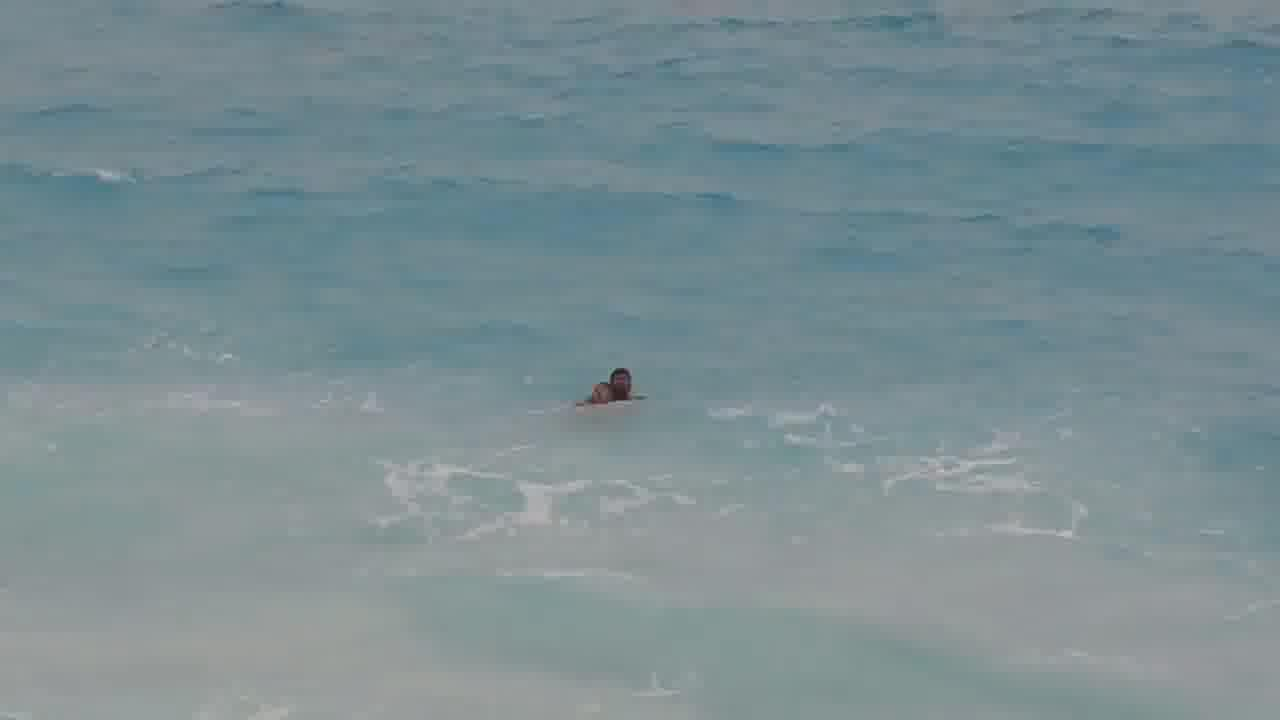swimmer: (606, 360, 646, 409), (574, 375, 616, 416)
